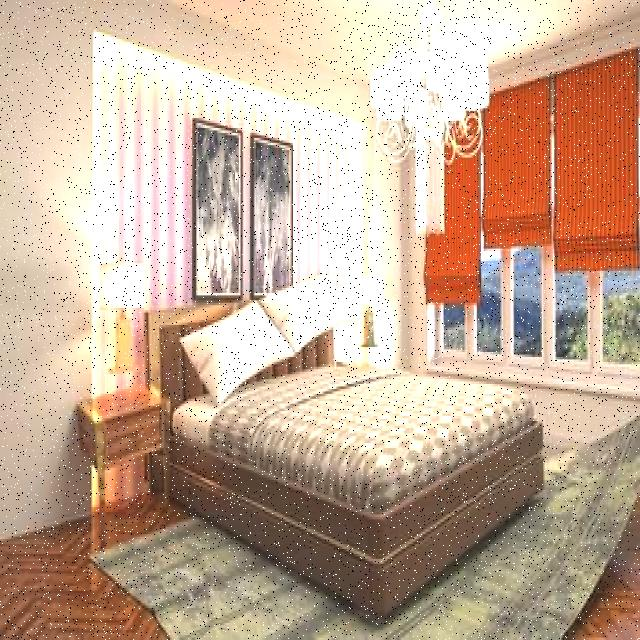bed: (164, 266, 546, 524)
